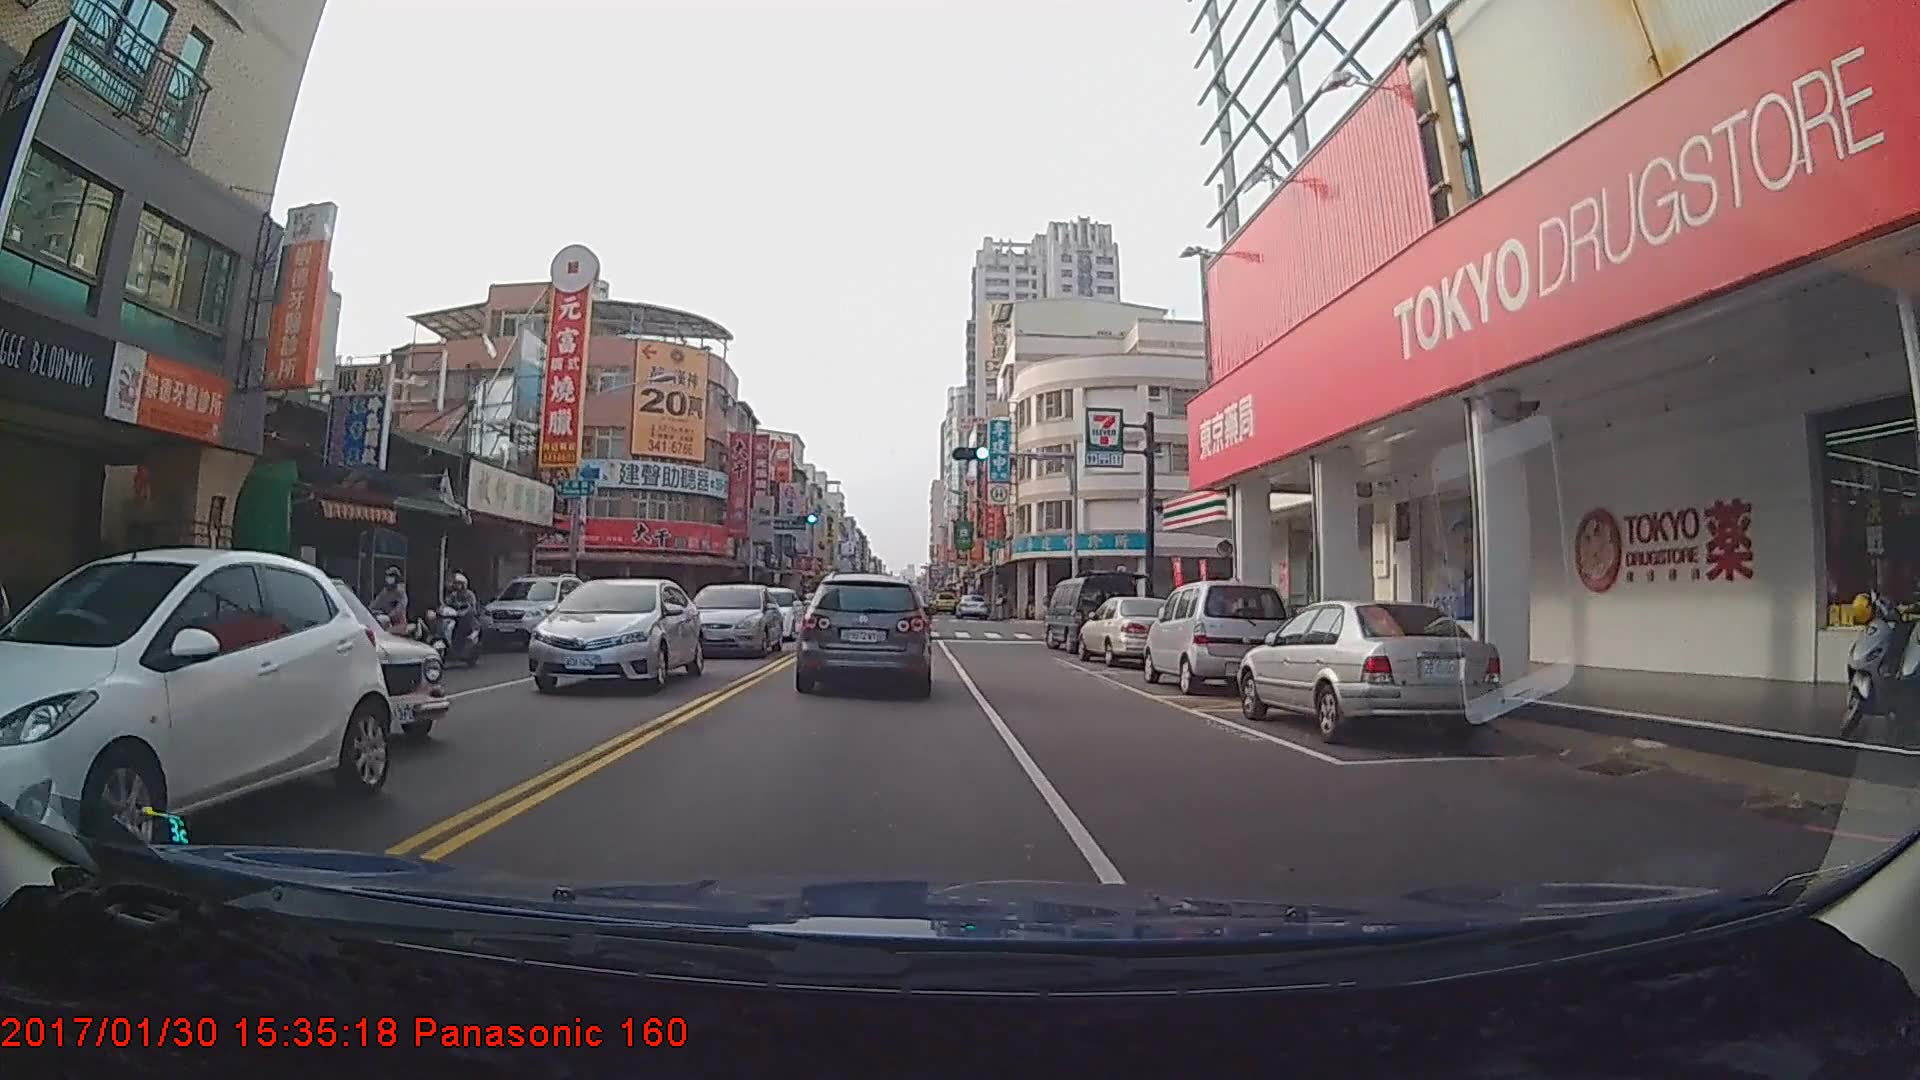rider: (428, 571, 482, 662)
vehicle: (0, 545, 389, 863), (115, 574, 446, 744), (1238, 597, 1502, 747), (517, 579, 692, 700), (1143, 583, 1293, 698), (801, 572, 930, 693), (478, 572, 587, 651), (1077, 595, 1187, 666), (682, 580, 781, 658), (1044, 574, 1138, 654), (736, 585, 799, 642), (952, 592, 988, 618)
